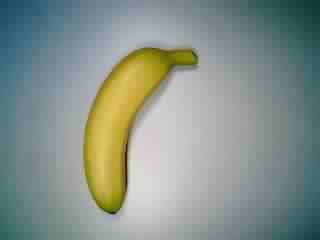banana: (81, 40, 207, 216)
